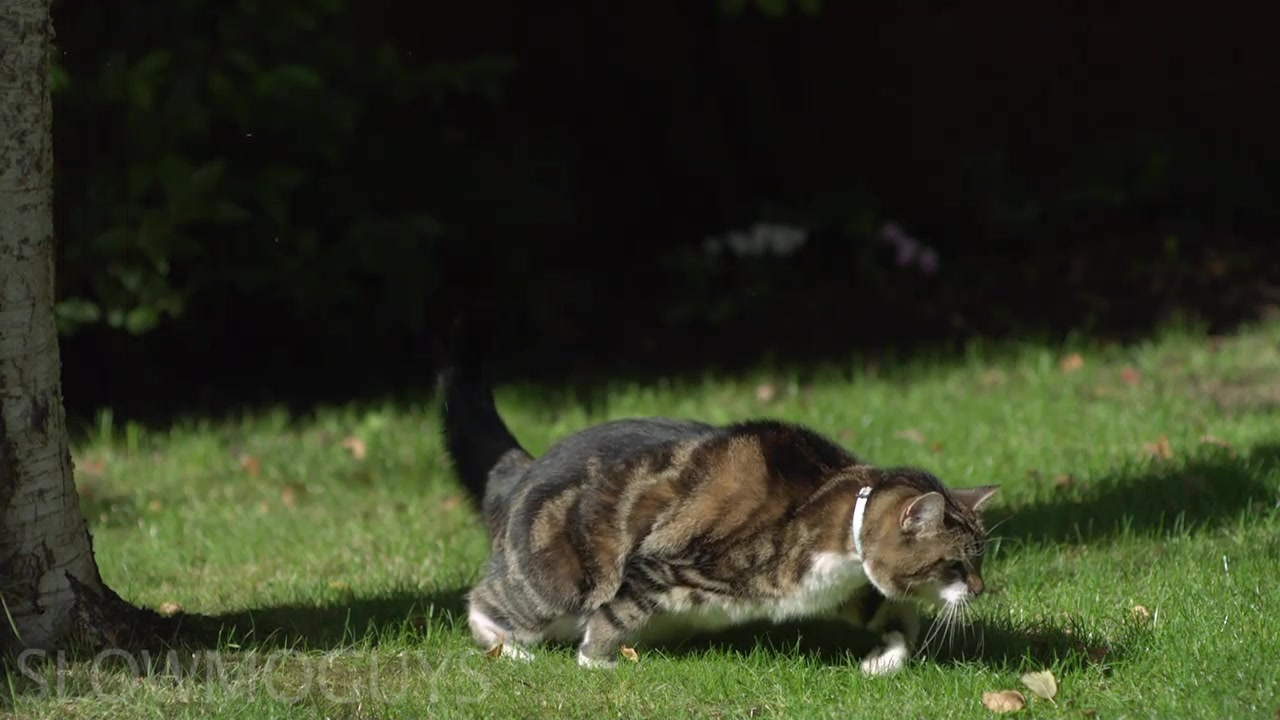cat: (429, 356, 1004, 679)
